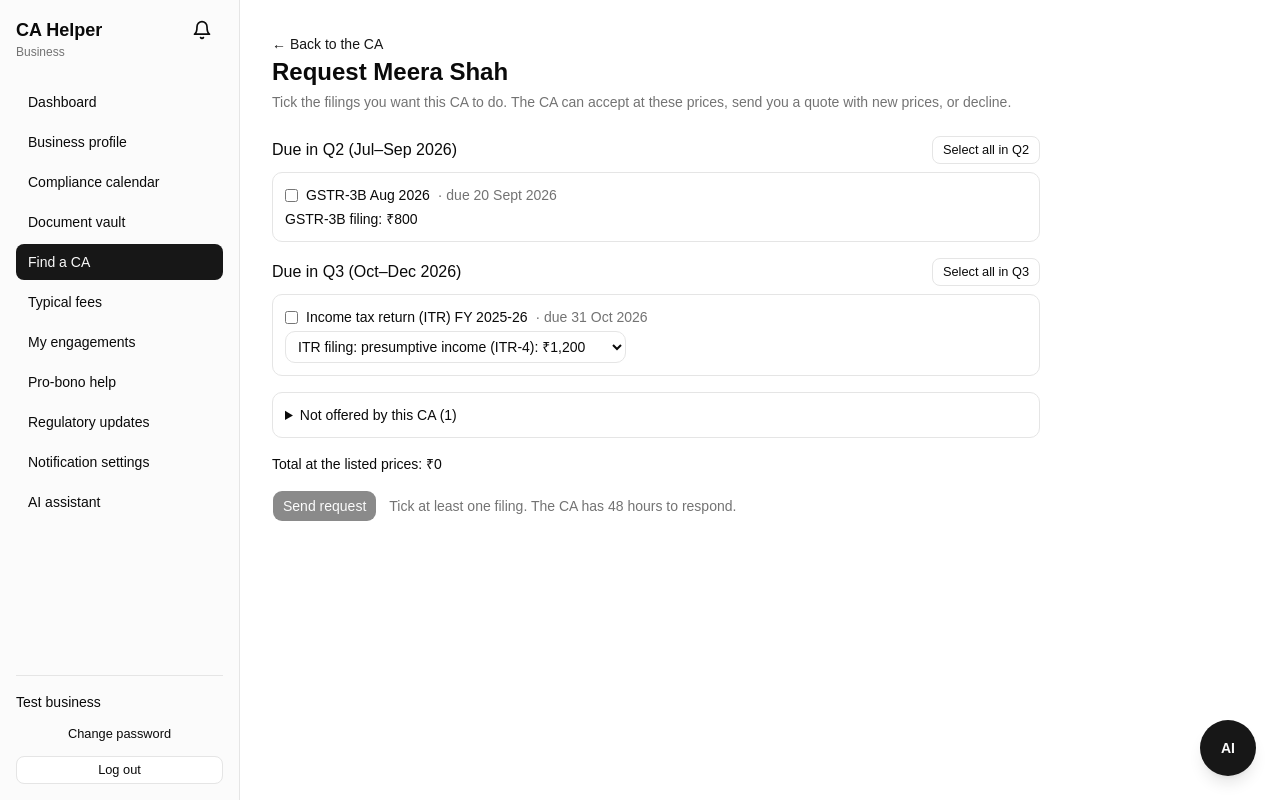
Test case: Request this CA page › shows the API's error, e.g. a filing someone just requested
The image size is (1280, 800).
Click the checkbox labelled "GSTR-3B Aug 2026 · due 20 Sept 2026" at (292, 195), box [285,188,298,202]
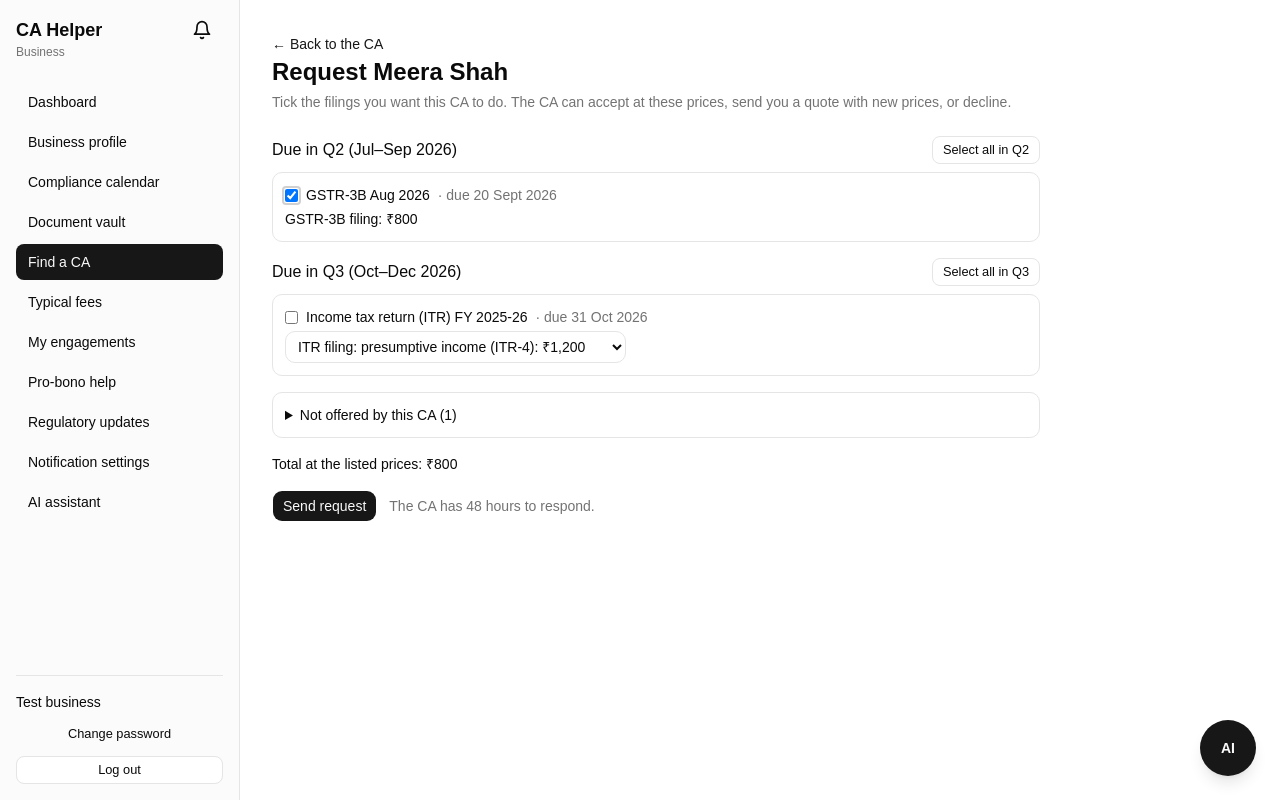
Click the button "Send request" at (325, 506), box [272,490,377,522]
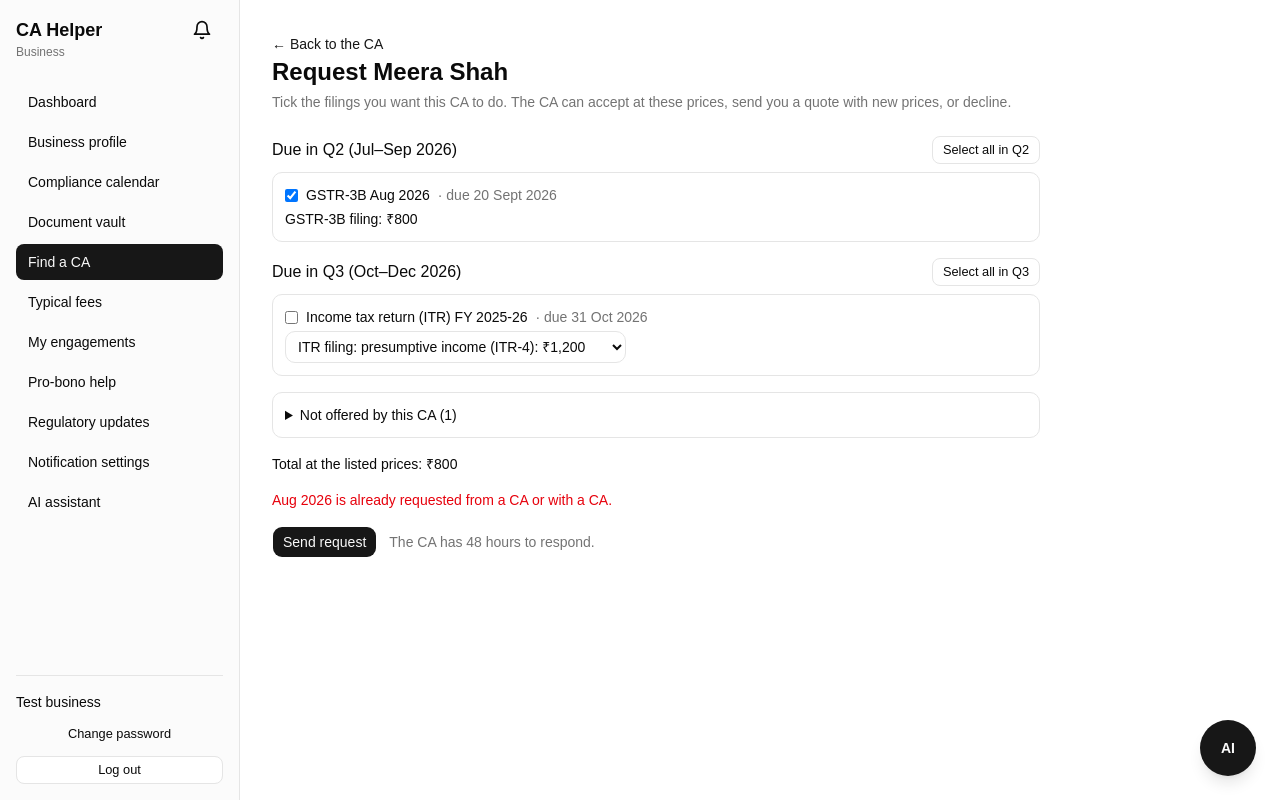
Result: the message shows "already requested" at [272,492,612,508]
